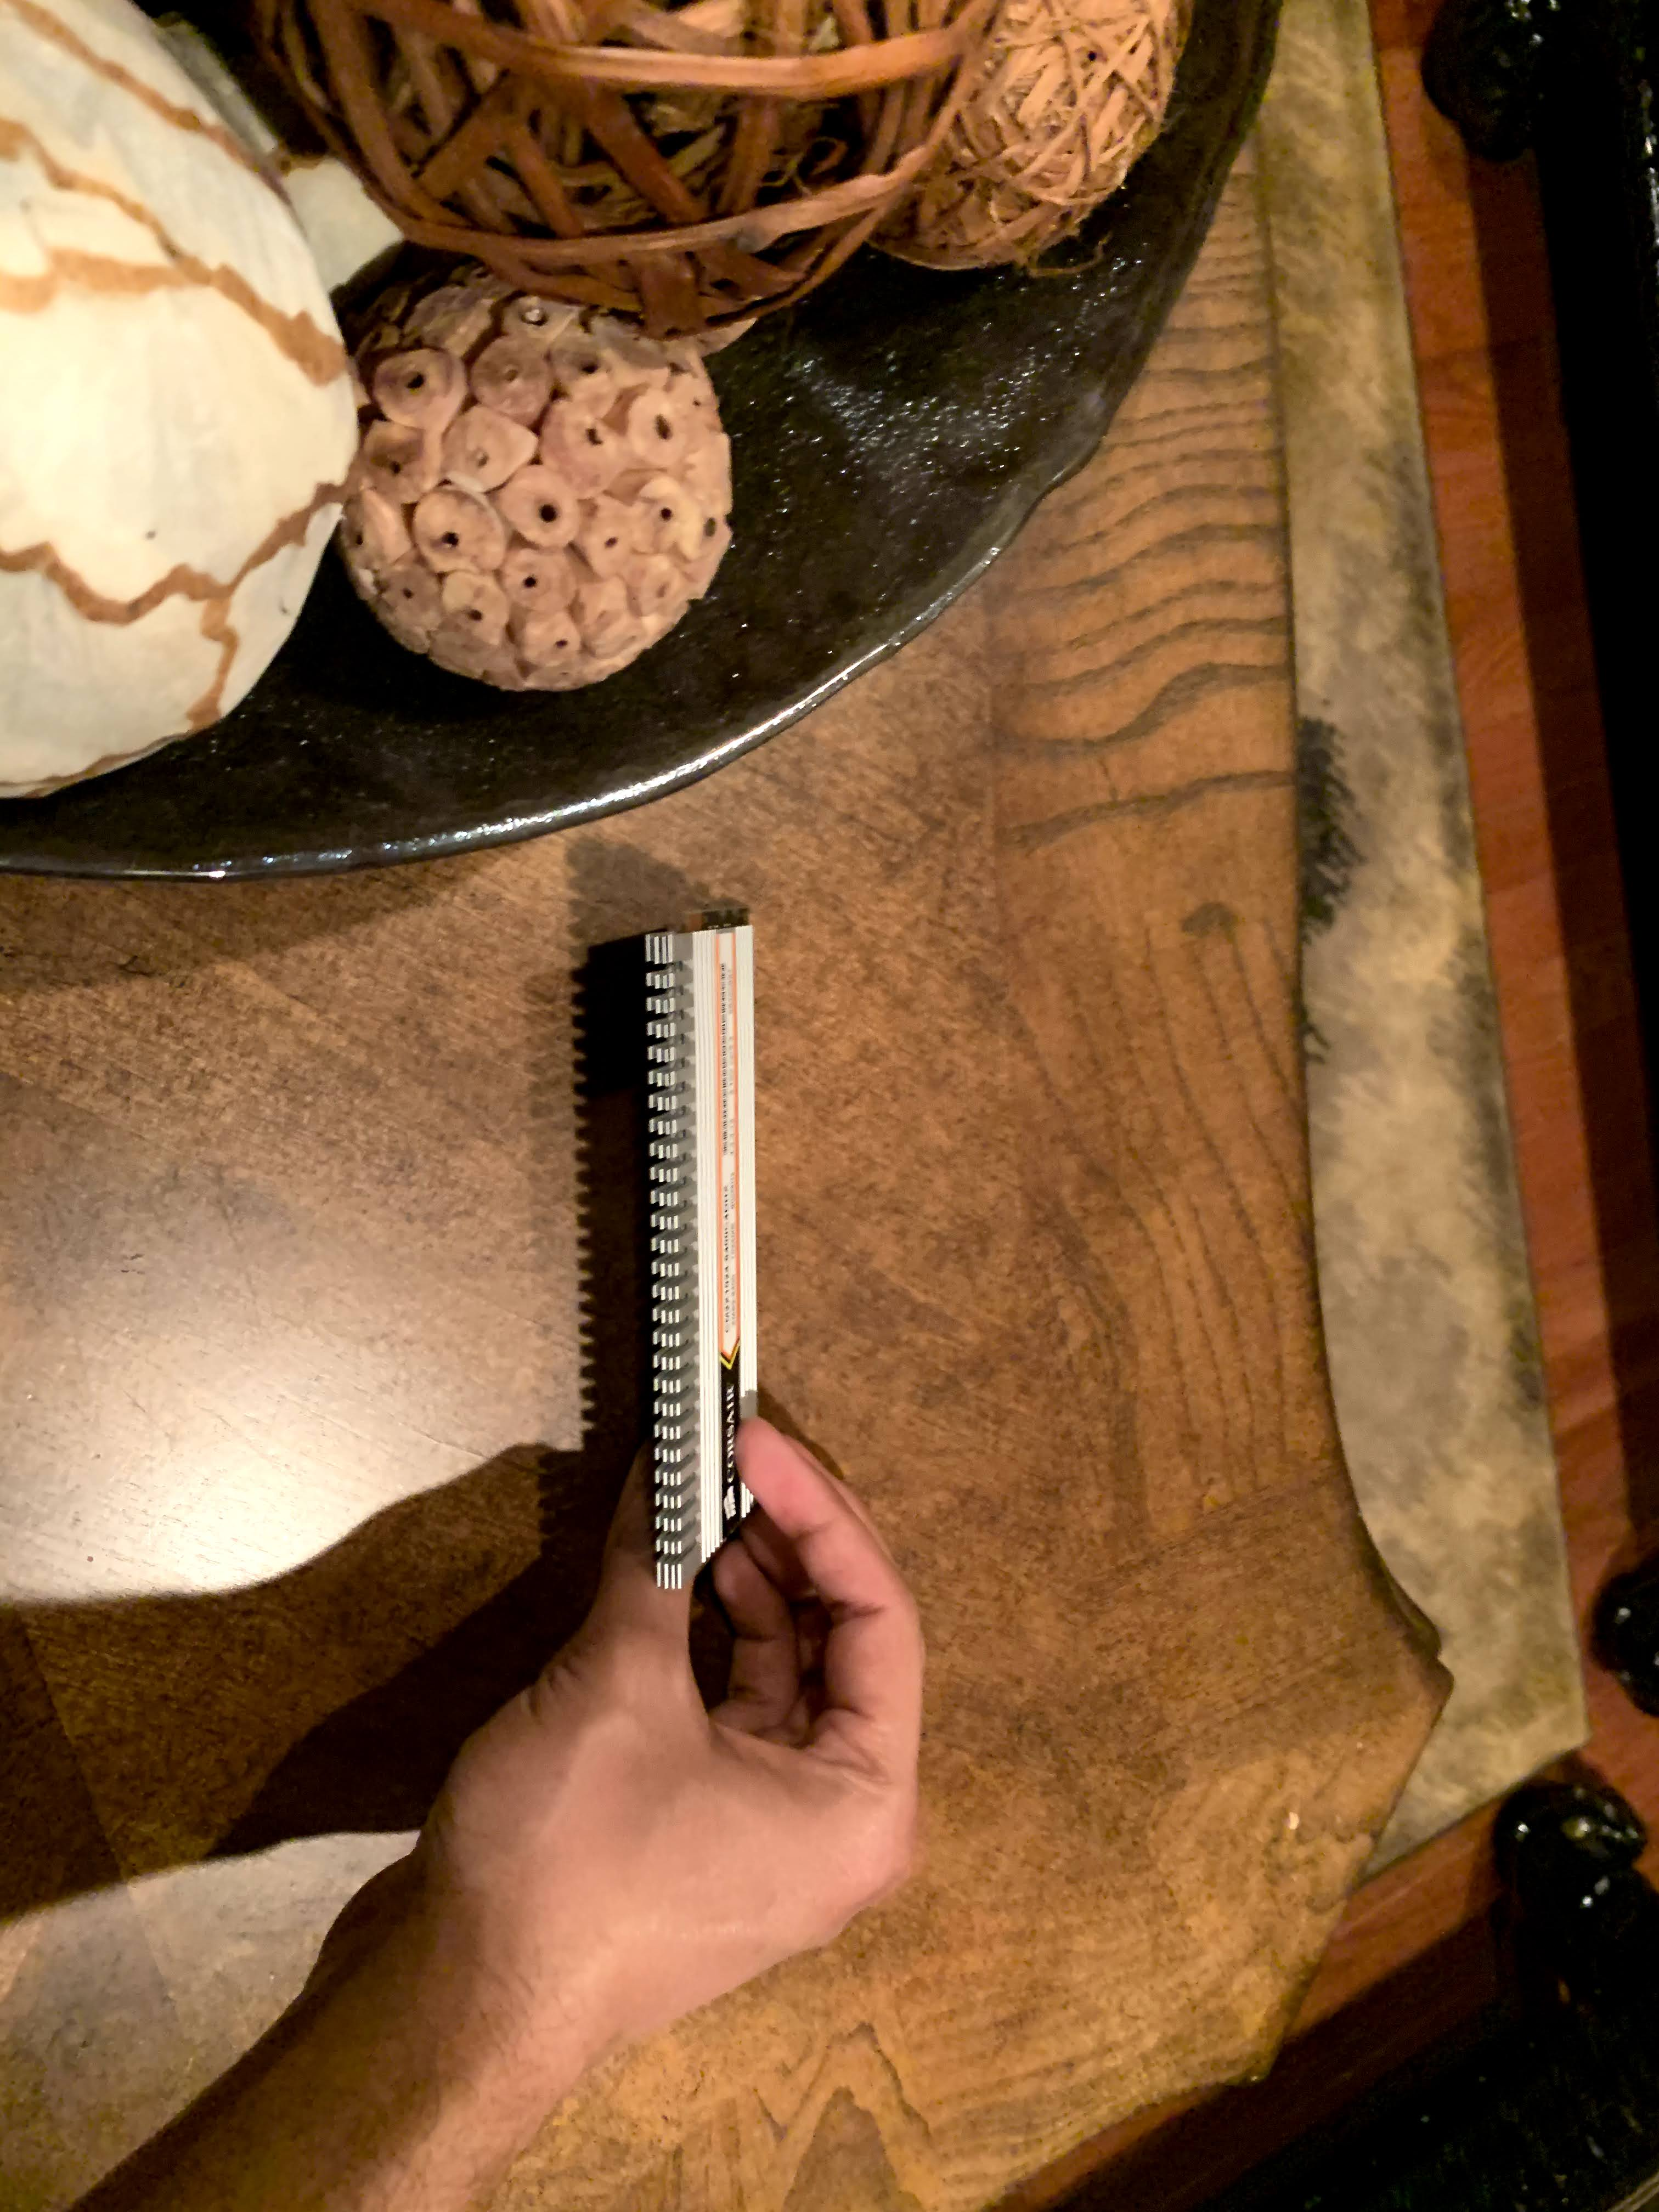Space-debris-medium: (626, 902, 767, 1592)
